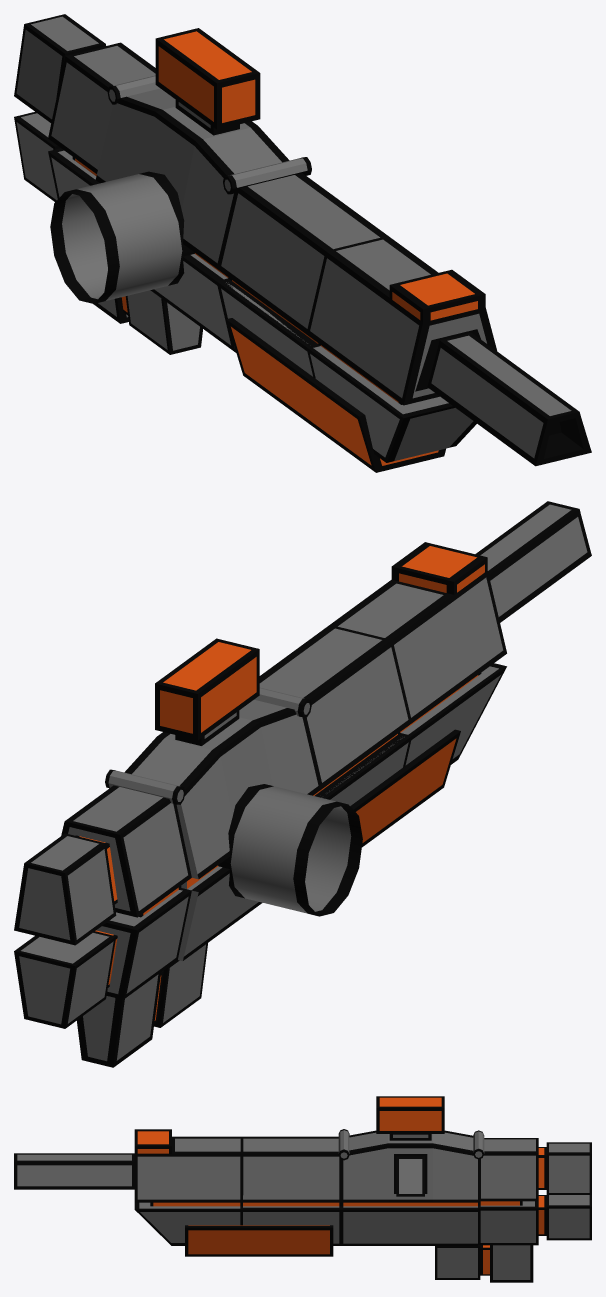
Rendered from Standard Rifle Model.fbx.
3 renders of one model, top to bottom at view 1: azimuth 30°, elevation 25°; view 2: azimuth 150°, elevation 25°; view 3: azimuth 270°, elevation 25°, orthographic. The views are drawn at different scales.
Visible parts, largest first — view 1: Standard Rifle Base, Standard Rifle Barrel Mid, Standard Rifle Barrel Front, Standard Rifle Barrel End, Standard Rifle Stock, Standard Rifle Scope, Standard Rifle Grip, Standard Rifle Stock Upper, Standard Rifle Stock Lower Stock, Standard Rifle Stock Mid; view 2: Standard Rifle Base, Standard Rifle Barrel Mid, Standard Rifle Barrel Front, Standard Rifle Stock, Standard Rifle Stock Upper, Standard Rifle Scope, Standard Rifle Barrel End, Standard Rifle Stock Mid, Standard Rifle Grip, Standard Rifle Stock Lower, Standard Rifle Stock Lower Stock; view 3: Standard Rifle Base, Standard Rifle Barrel Mid, Standard Rifle Barrel Front, Standard Rifle Stock, Standard Rifle Grip, Standard Rifle Barrel End, Standard Rifle Scope, Standard Rifle Stock Upper, Standard Rifle Stock Mid, Standard Rifle Stock Lower Stock, Standard Rifle Stock Lower.
Part boxes in pixels (x1=…): Standard Rifle Base: x1=50, y1=88, x2=289, y2=349; Standard Rifle Barrel Mid: x1=306, y1=236, x2=496, y2=462; Standard Rifle Barrel Front: x1=216, y1=157, x2=387, y2=376; Standard Rifle Barrel End: x1=427, y1=332, x2=591, y2=466; Standard Rifle Stock: x1=48, y1=42, x2=159, y2=199; Standard Rifle Scope: x1=155, y1=28, x2=260, y2=135; Standard Rifle Grip: x1=226, y1=318, x2=445, y2=472; Standard Rifle Stock Upper: x1=14, y1=14, x2=105, y2=122; Standard Rifle Stock Lower Stock: x1=121, y1=290, x2=202, y2=354; Standard Rifle Stock Mid: x1=14, y1=112, x2=60, y2=201; Standard Rifle Base: x1=124, y1=699, x2=362, y2=961; Standard Rifle Barrel Mid: x1=328, y1=542, x2=506, y2=767; Standard Rifle Barrel Front: x1=254, y1=626, x2=409, y2=805; Standard Rifle Stock: x1=61, y1=769, x2=191, y2=999; Standard Rifle Stock Upper: x1=14, y1=833, x2=117, y2=945; Standard Rifle Scope: x1=155, y1=638, x2=259, y2=745; Standard Rifle Barrel End: x1=475, y1=501, x2=591, y2=622; Standard Rifle Stock Mid: x1=14, y1=930, x2=117, y2=1028; Standard Rifle Grip: x1=350, y1=729, x2=460, y2=847; Standard Rifle Stock Lower: x1=77, y1=972, x2=160, y2=1067; Standard Rifle Stock Lower Stock: x1=154, y1=943, x2=207, y2=1027; Standard Rifle Base: x1=343, y1=1130, x2=477, y2=1245; Standard Rifle Barrel Mid: x1=134, y1=1129, x2=243, y2=1245; Standard Rifle Barrel Front: x1=243, y1=1129, x2=349, y2=1245; Standard Rifle Stock: x1=473, y1=1130, x2=538, y2=1245; Standard Rifle Grip: x1=185, y1=1225, x2=333, y2=1256; Standard Rifle Barrel End: x1=14, y1=1153, x2=134, y2=1189; Standard Rifle Scope: x1=376, y1=1096, x2=444, y2=1140; Standard Rifle Stock Upper: x1=538, y1=1142, x2=591, y2=1194; Standard Rifle Stock Mid: x1=538, y1=1195, x2=591, y2=1240; Standard Rifle Stock Lower Stock: x1=435, y1=1245, x2=489, y2=1279; Standard Rifle Stock Lower: x1=490, y1=1245, x2=533, y2=1282.
Bounding box in the file's own units: 1.5 × 6.87 × 2.31.
